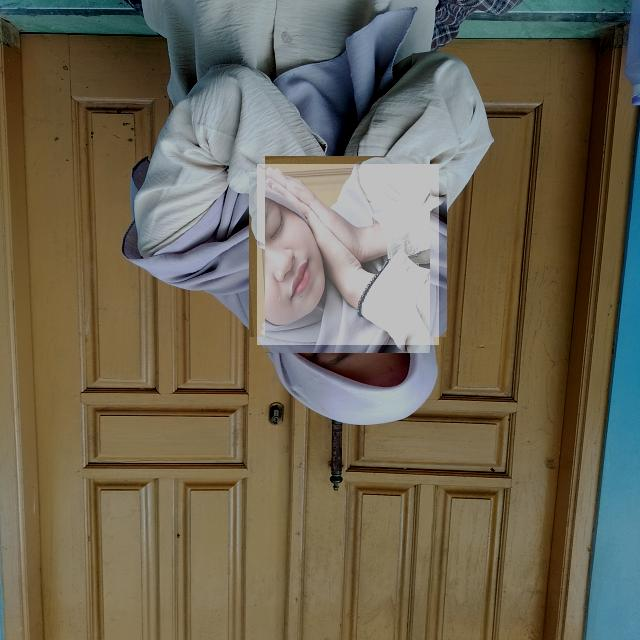tidur: (257, 164, 439, 345)
